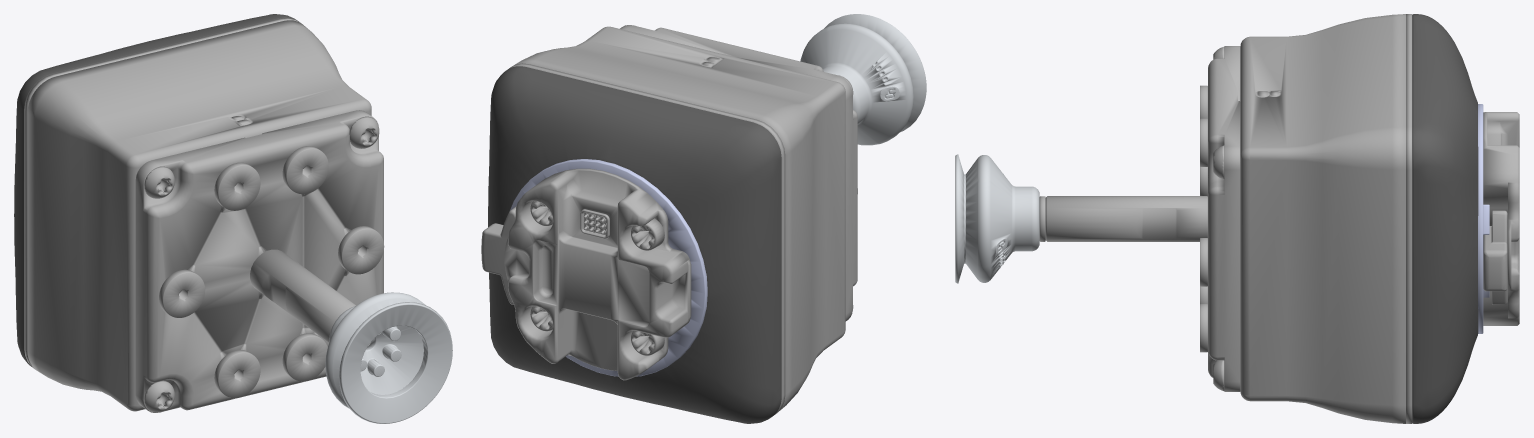
Rendered from gripper_vgc10_1.gltf.
The picture shows the model from 3 angles, left to right: view 1: azimuth 30°, elevation 25°; view 2: azimuth 150°, elevation 25°; view 3: azimuth 270°, elevation 25°; orthographic projection.
Visible parts, largest first — view 1: node0.054; view 2: node0.054; view 3: node0.054.
Part boxes in pixels (x1,y1,x2,y2): node0.054: (14,14,452,423); node0.054: (481,14,926,423); node0.054: (955,14,1519,423).
Bounding box in the file's own units: 0.1 × 0.1 × 0.1738.
